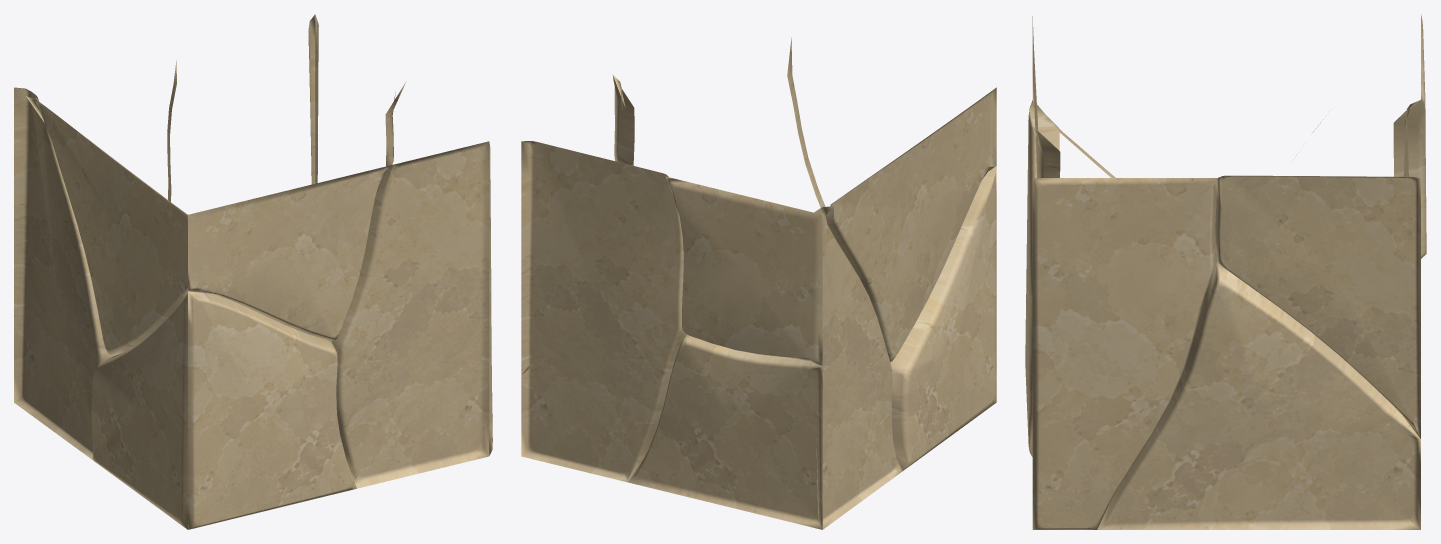
Rendered from GroundRock06.glb.
3 views of the same model, side by side, from view 1: azimuth 30°, elevation 25°; view 2: azimuth 150°, elevation 25°; view 3: azimuth 270°, elevation 25° (orthographic). The views are drawn at different scales.
Parts seen in each view (by area): view 1: ground_rock_06; view 2: ground_rock_06; view 3: ground_rock_06.
Boxes of the visible parts, x1,y1,x2,y2 form: ground_rock_06: (14, 14, 492, 529); ground_rock_06: (521, 38, 996, 529); ground_rock_06: (1025, 14, 1426, 529).
Size of the model in its own units: 1.04 by 1 by 1.03.
13 materials, 13 textured.
